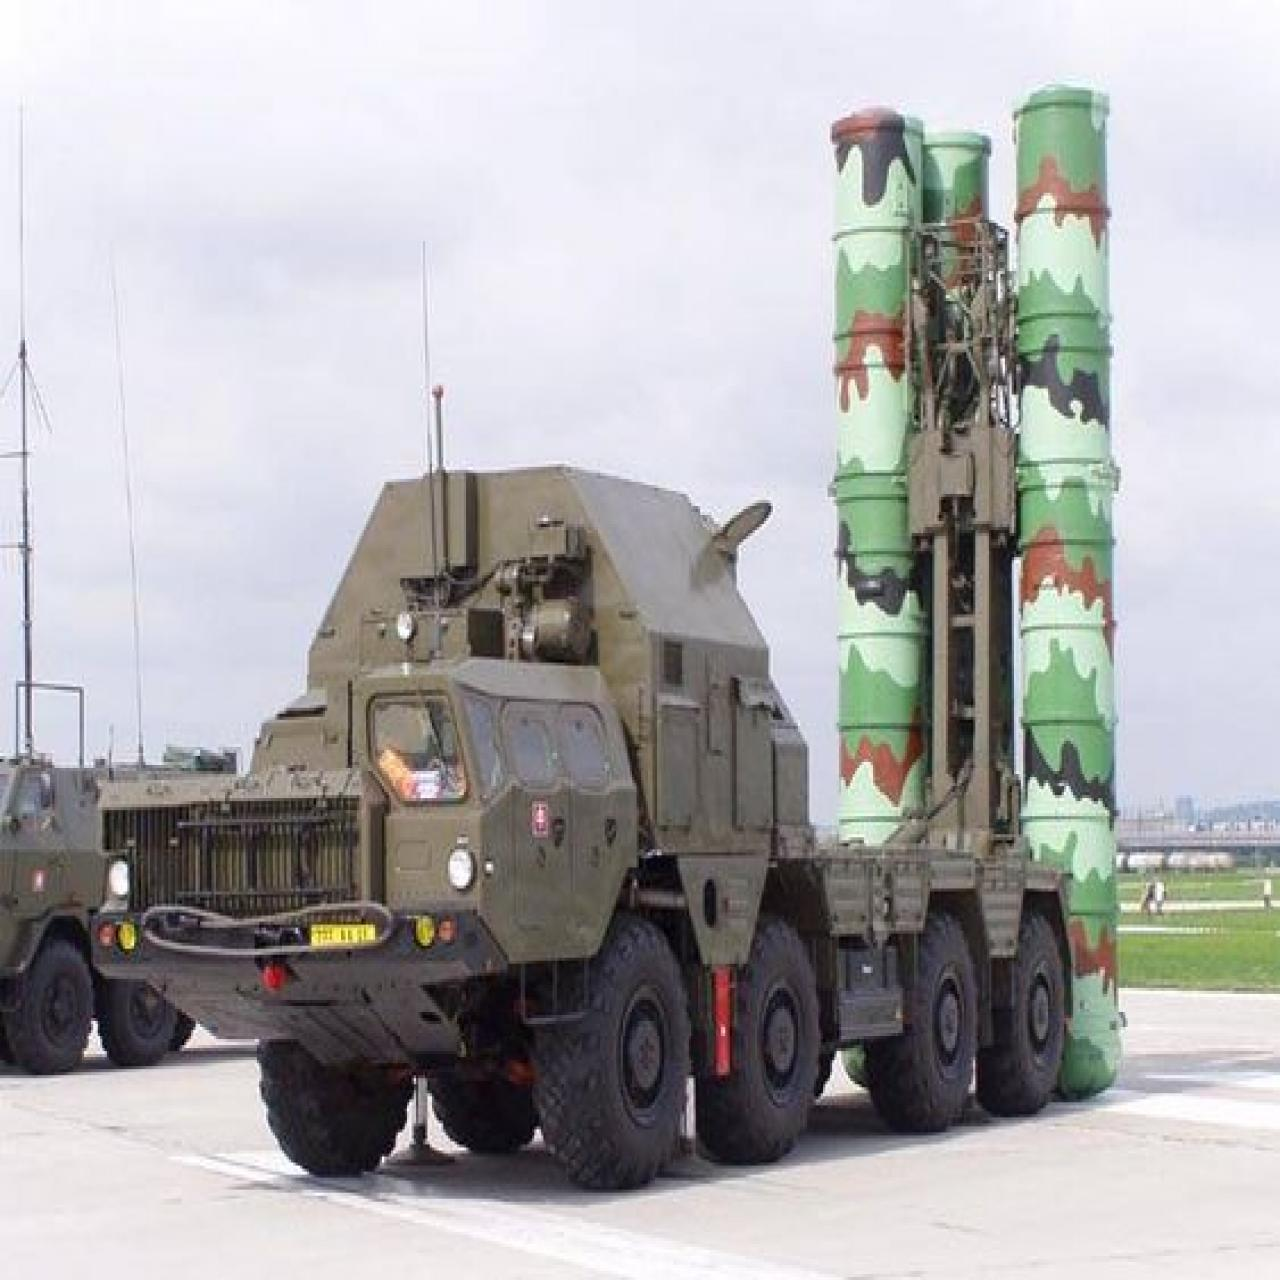MIL_Veh: (108, 79, 1123, 1189)
